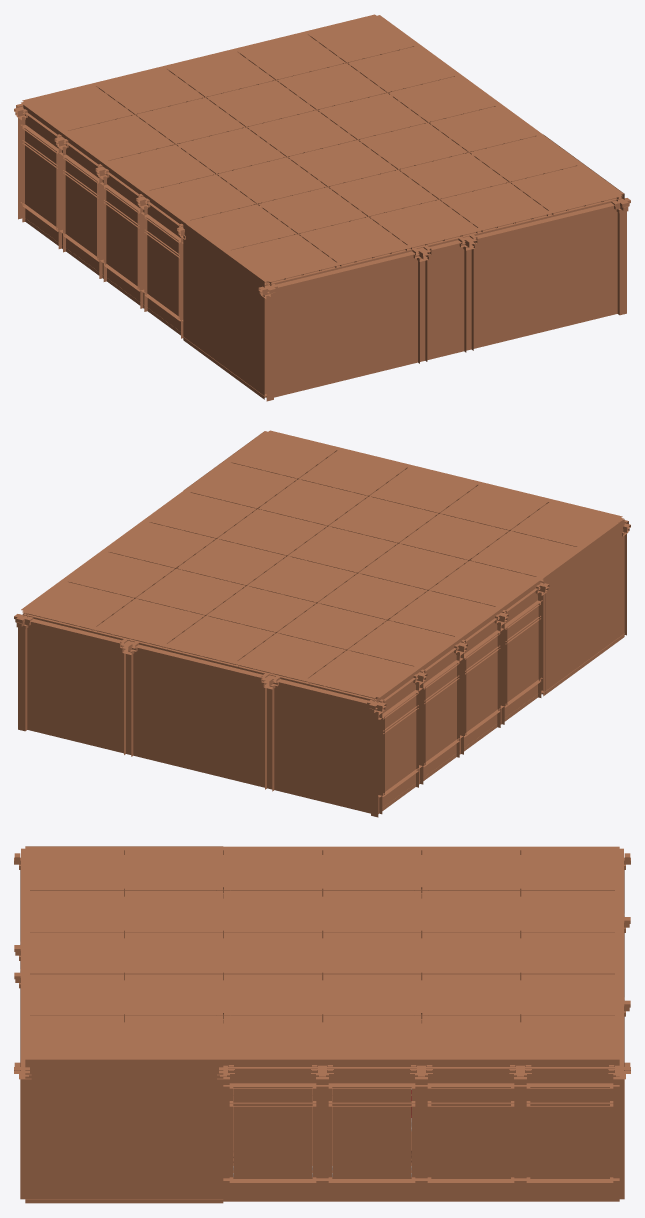
Rendered from BuddhaHall.fbx.
The picture shows the model from 3 angles, top to bottom: view 1: azimuth 30°, elevation 25°; view 2: azimuth 150°, elevation 25°; view 3: azimuth 270°, elevation 25°; orthographic projection. The views are drawn at different scales.
Visible parts, largest first — view 1: A03_Celling, A04_Wall_Front, A01_Main_Mat; view 2: A03_Celling, A01_Main_Mat; view 3: A03_Celling, A01_Main_Mat.
Part boxes in pixels (box(x1,y1,x2,y2)): A03_Celling: box(22, 14, 622, 287); A04_Wall_Front: box(274, 206, 617, 397); A01_Main_Mat: box(14, 15, 630, 401); A03_Celling: box(22, 430, 622, 703); A01_Main_Mat: box(14, 431, 630, 817); A03_Celling: box(21, 848, 623, 1060); A01_Main_Mat: box(14, 846, 630, 1203).
Bounding box in the file's own units: 20.9 × 6.4 × 24.92.
